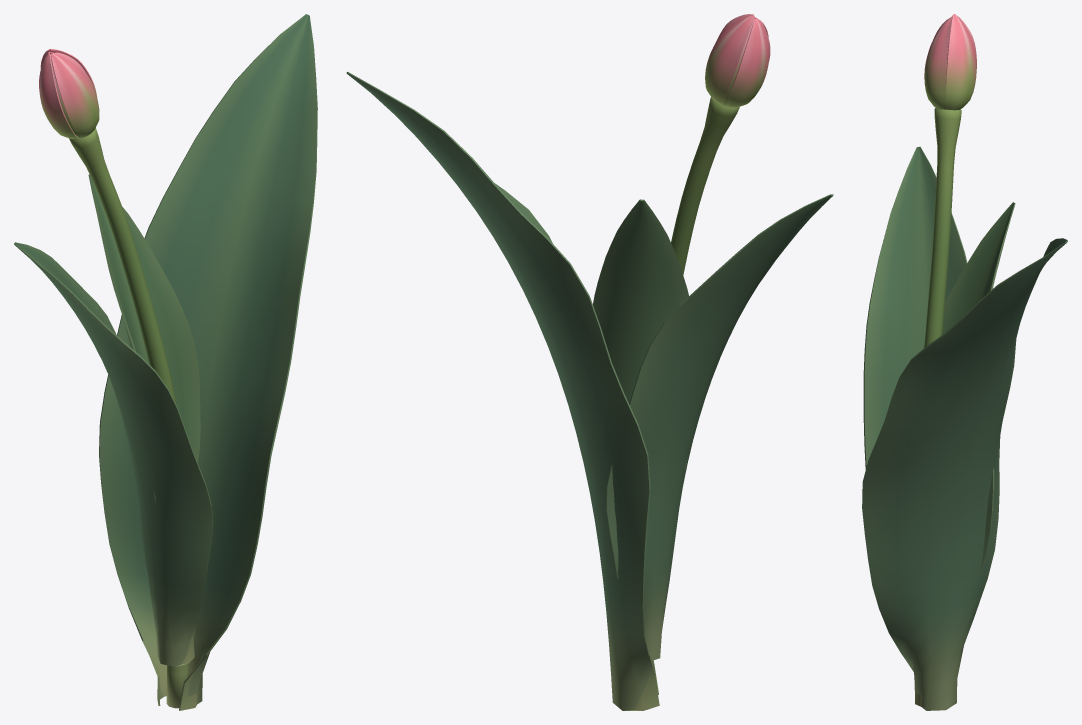
File: bud-pink.glb
The picture shows the model from 3 angles, left to right: view 1: azimuth 30°, elevation 25°; view 2: azimuth 150°, elevation 25°; view 3: azimuth 270°, elevation 25°; orthographic projection. The views are drawn at different scales.
Visible parts, largest first — view 1: tulip-bud-pink; view 2: tulip-bud-pink; view 3: tulip-bud-pink.
Boxes of the visible parts, x1,y1,x2,y2 form: tulip-bud-pink: (14,14,317,710); tulip-bud-pink: (346,14,833,710); tulip-bud-pink: (862,14,1067,710).
Size of the model in its own units: 0.1563 by 0.2701 by 0.0794.
